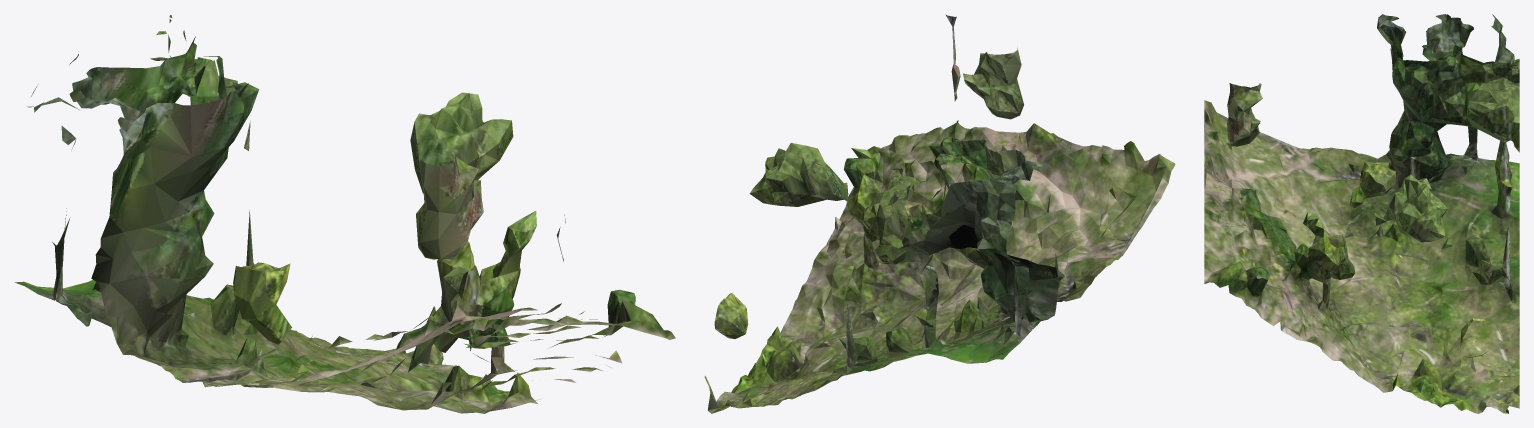
3 views of the same model, side by side, from view 1: azimuth 30°, elevation 25°; view 2: azimuth 150°, elevation 25°; view 3: azimuth 270°, elevation 25° (orthographic). The views are drawn at different scales.
Size of the model in its own units: 26.11 by 24.33 by 26.11.
6 materials, 6 textured.
